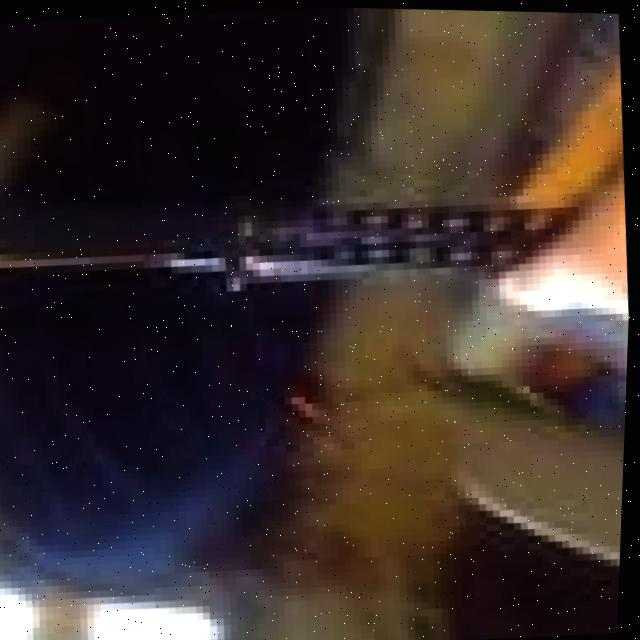knife: (0, 179, 584, 325)
